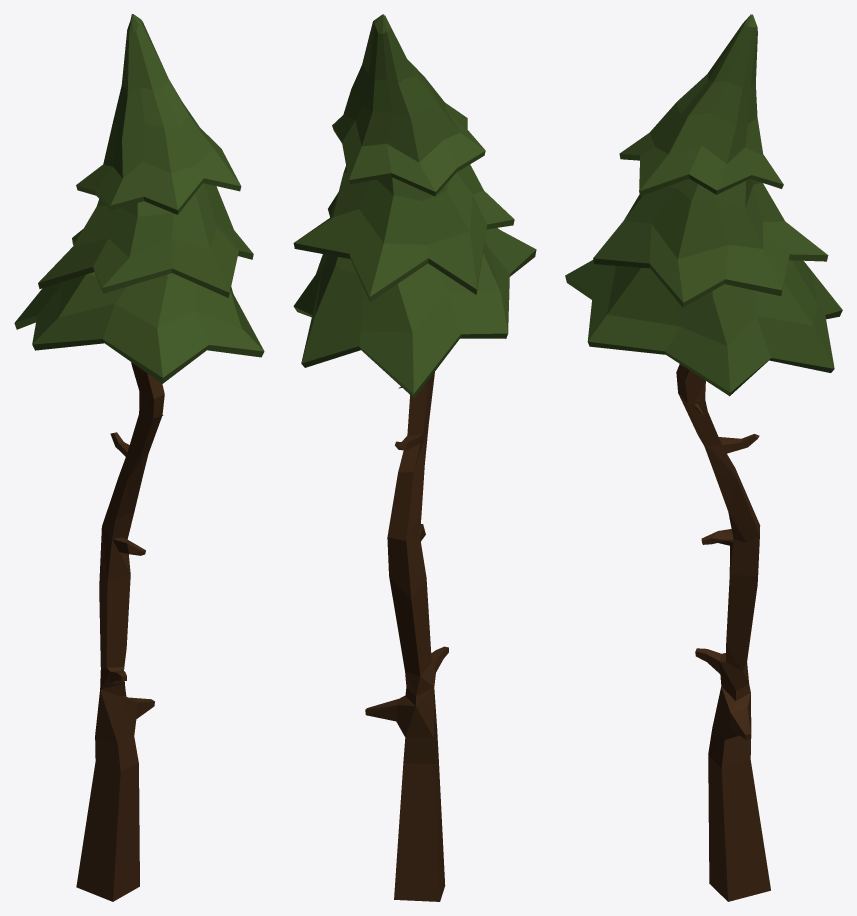
Rendered from Tree3 1.fbx.
3 renders of one model, left to right at view 1: azimuth 30°, elevation 25°; view 2: azimuth 150°, elevation 25°; view 3: azimuth 270°, elevation 25°, orthographic. The views are drawn at different scales.
Visible parts, largest first — view 1: Cube.007, Circle.006, Circle.008, Circle.007; view 2: Circle.006, Cube.007, Circle.007, Circle.008; view 3: Circle.006, Cube.007, Circle.007, Circle.008.
Part boxes in pixels (x1,y1,x2,y2): Cube.007: [76, 362, 164, 901]; Circle.006: [14, 272, 264, 383]; Circle.008: [76, 14, 241, 214]; Circle.007: [38, 183, 253, 297]; Circle.006: [293, 228, 536, 398]; Cube.007: [365, 372, 448, 901]; Circle.007: [293, 143, 514, 302]; Circle.008: [332, 14, 485, 196]; Circle.006: [565, 260, 842, 396]; Cube.007: [676, 364, 770, 901]; Circle.007: [593, 178, 828, 307]; Circle.008: [619, 14, 783, 196].
Size of the model in its own units: 701 by 2745 by 777.
